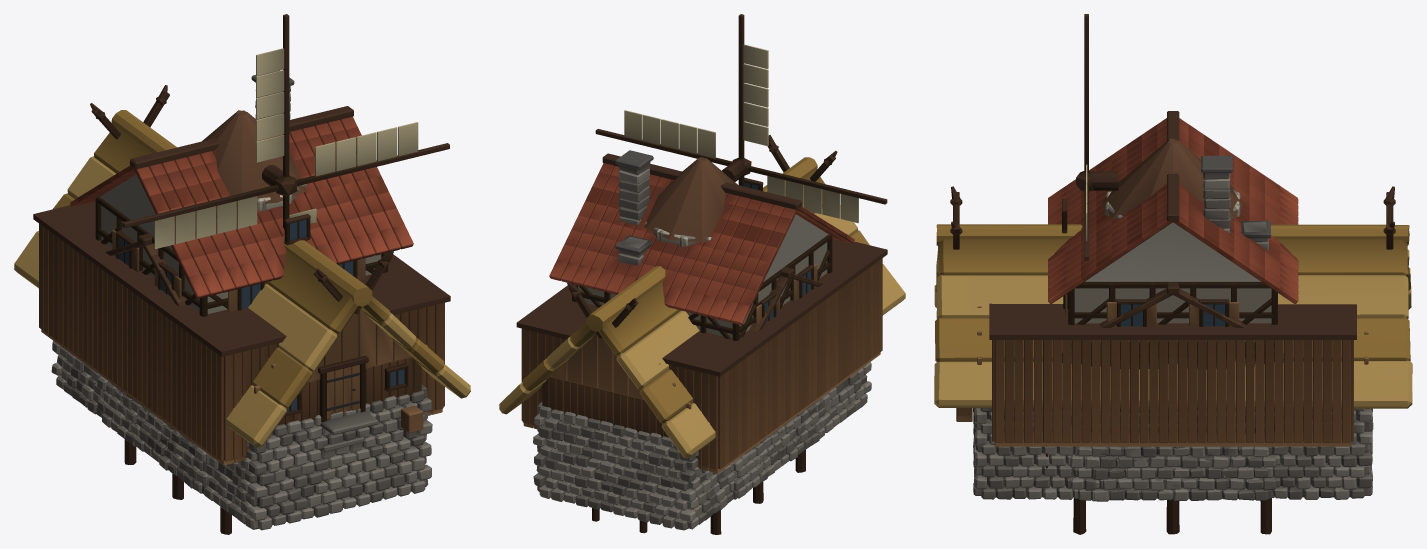
File: village.glb
The picture shows the model from 3 angles, left to right: view 1: azimuth 30°, elevation 25°; view 2: azimuth 150°, elevation 25°; view 3: azimuth 270°, elevation 25°; orthographic projection. The views are drawn at different scales.
Visible parts, largest first — view 1: M_longere, I_halle, M_colombage, A_moulin, M_moulin, M_forge, W_colombage, M_pecheur; view 2: M_longere, M_colombage, I_halle, A_moulin, M_moulin, M_forge, M_pecheur; view 3: M_longere, I_halle, M_colombage, M_forge, M_moulin, A_moulin, M_pecheur, W_colombage.
Boxes of the visible parts, <box> form: M_longere: <box>14,85,470,530</box>; I_halle: <box>33,202,450,465</box>; M_colombage: <box>70,70,413,493</box>; A_moulin: <box>122,14,449,249</box>; M_moulin: <box>202,110,306,211</box>; M_forge: <box>105,233,199,489</box>; W_colombage: <box>119,219,353,308</box>; M_pecheur: <box>124,439,231,534</box>; M_longere: <box>499,135,905,530</box>; M_colombage: <box>549,150,854,498</box>; I_halle: <box>516,239,887,473</box>; A_moulin: <box>595,14,887,222</box>; M_moulin: <box>644,157,746,246</box>; M_forge: <box>740,267,824,487</box>; M_pecheur: <box>710,449,805,534</box>; M_longere: <box>934,186,1412,499</box>; I_halle: <box>989,303,1356,446</box>; M_colombage: <box>1048,111,1298,501</box>; M_forge: <box>1071,282,1274,501</box>; M_moulin: <box>1090,138,1243,219</box>; A_moulin: <box>1076,14,1093,260</box>; M_pecheur: <box>1045,446,1271,534</box>; W_colombage: <box>1121,304,1225,368</box>.
Size of the model in its own units: 13.38 by 19.61 by 17.43.
